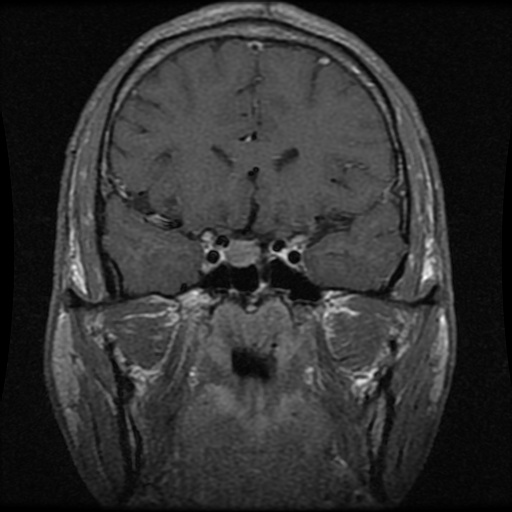pituitary: (222, 239, 262, 266)
